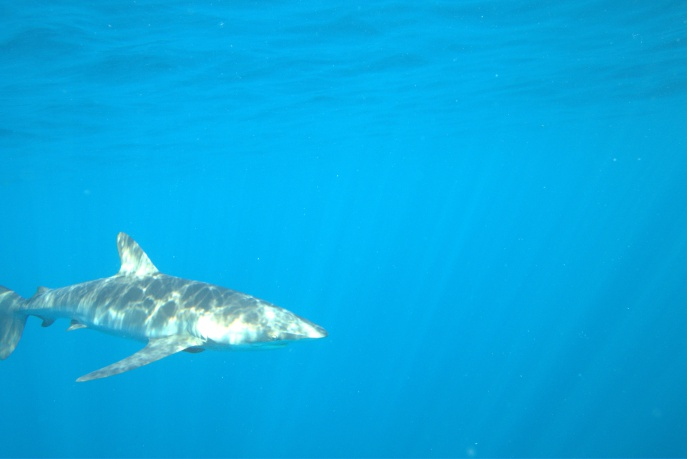Sedoso: (1, 228, 332, 398)
